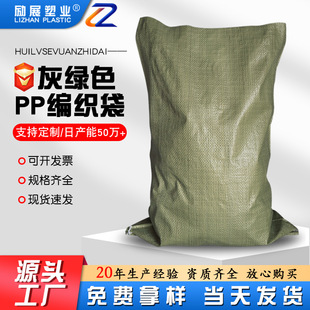Parcel: (126, 17, 298, 246)
